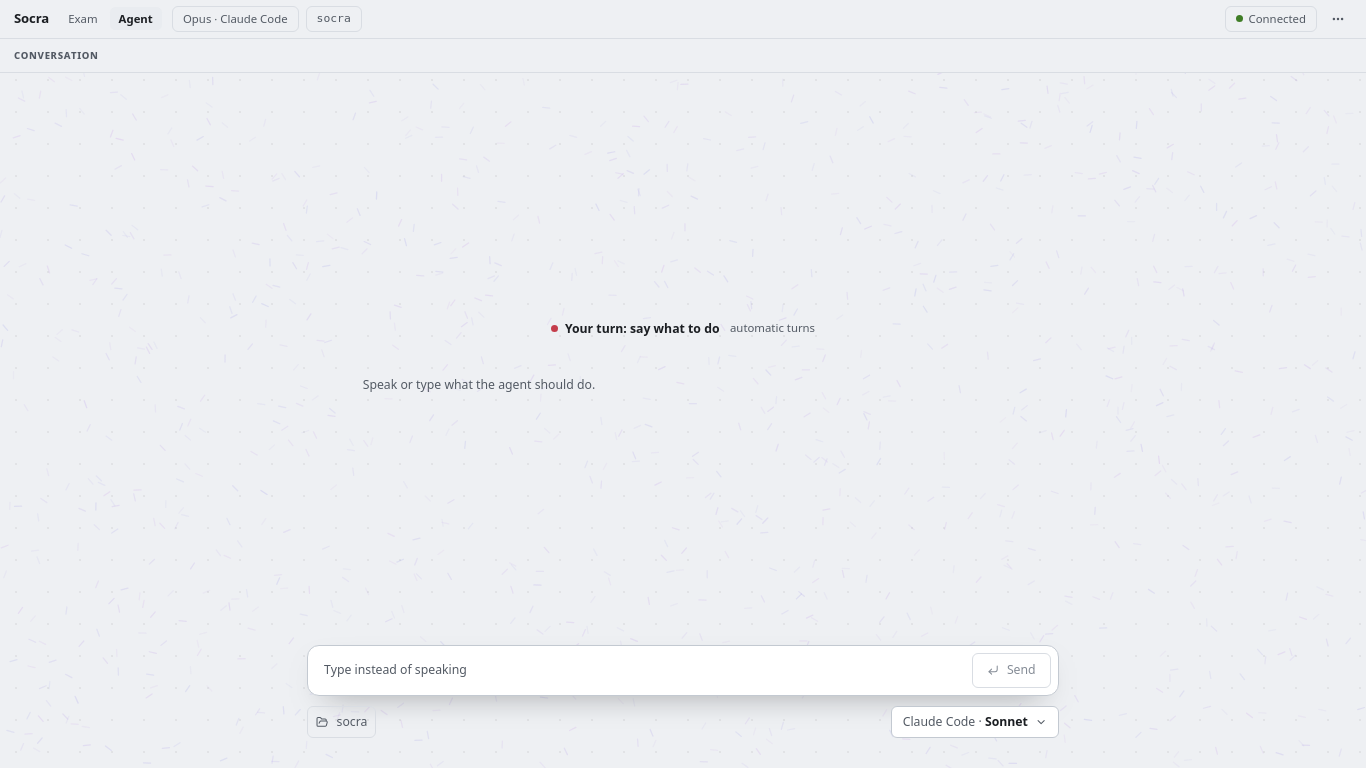
it: AgentApp › sends dictated and typed turns
Step 1. Type "list the files" into the field named "Message the agent" → (639, 670), box [315,653,964,688]
Then press Enter
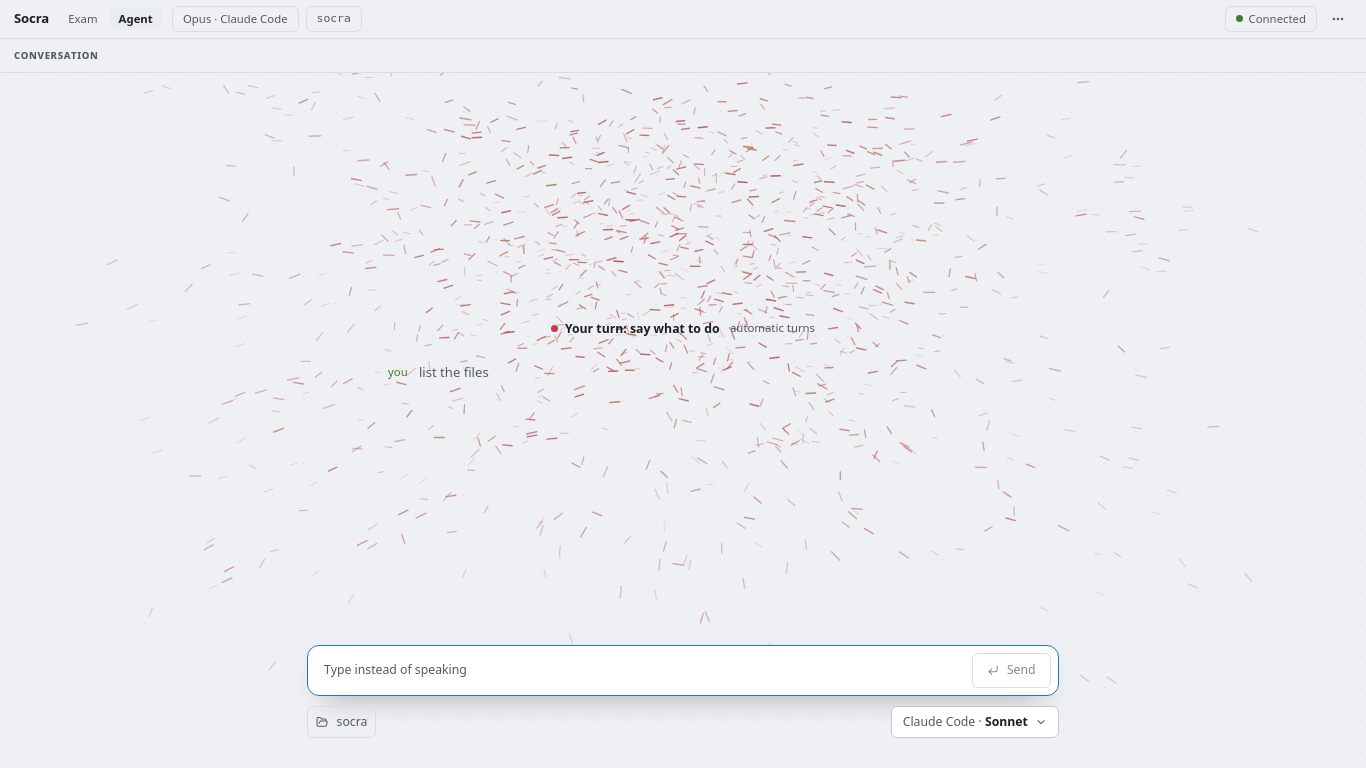
Expected: the list item shows "list the files", [419,363,489,381]
